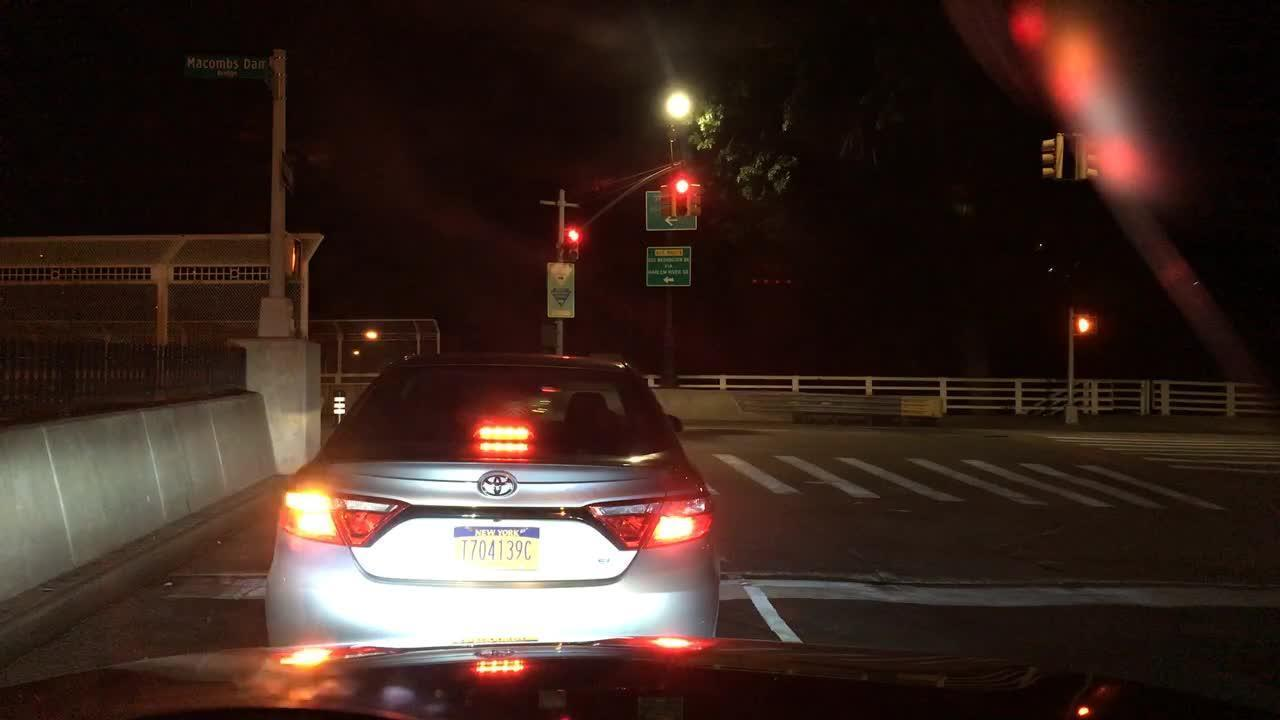Toyota: (471, 458, 532, 509)
